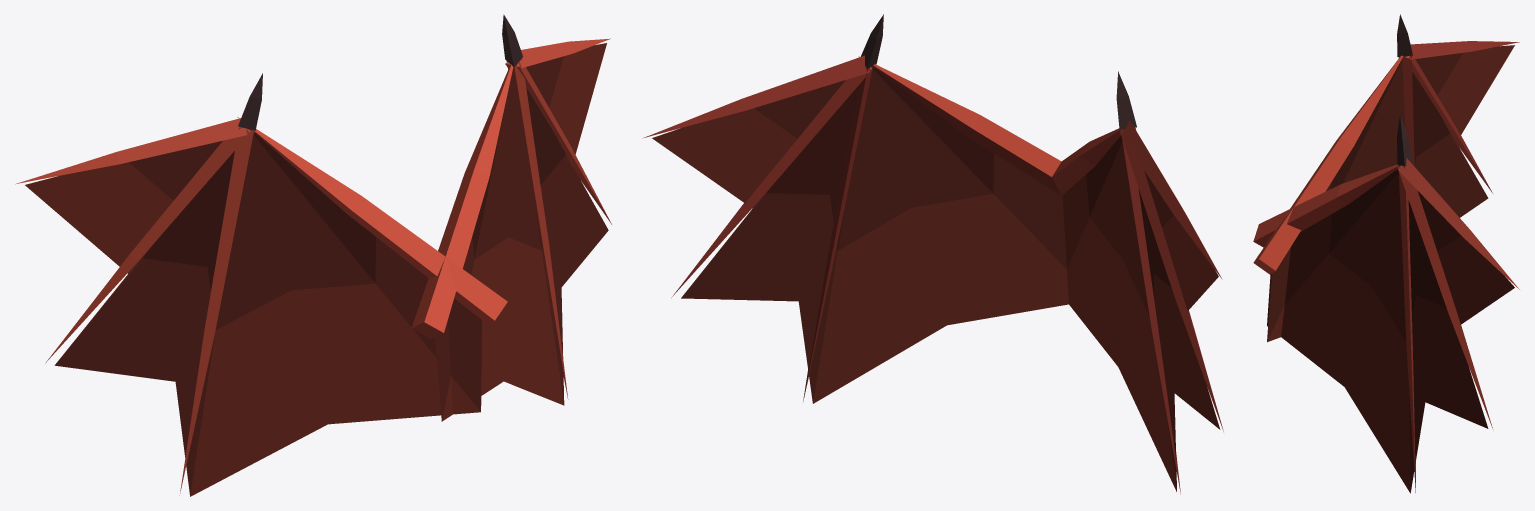
Rendered from wings_ip_bat.glb.
The picture shows the model from 3 angles, left to right: view 1: azimuth 30°, elevation 25°; view 2: azimuth 150°, elevation 25°; view 3: azimuth 270°, elevation 25°; orthographic projection. The views are drawn at different scales.
Parts seen in each view (by area): view 1: Wing_R, Wing_L; view 2: Wing_L, Wing_R; view 3: Wing_L, Wing_R.
Boxes of the visible parts, <box> form: Wing_R: <box>15,73,507,496</box>; Wing_L: <box>411,14,611,421</box>; Wing_L: <box>642,14,1068,403</box>; Wing_R: <box>1052,71,1223,494</box>; Wing_L: <box>1253,114,1519,493</box>; Wing_R: <box>1253,14,1519,342</box>.
Bounding box in the file's own units: 0.2599 × 0.1715 × 0.118.
1 material, 1 textured.
